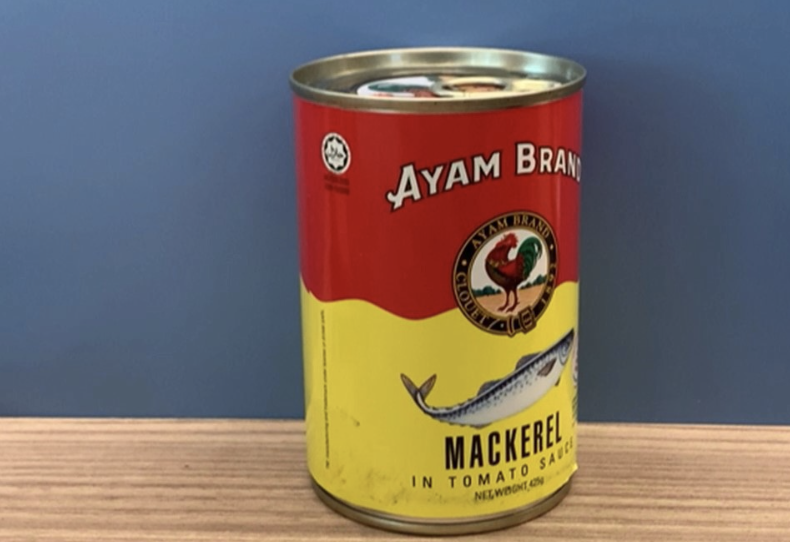sardines_400g-499g: (310, 69, 577, 497)
